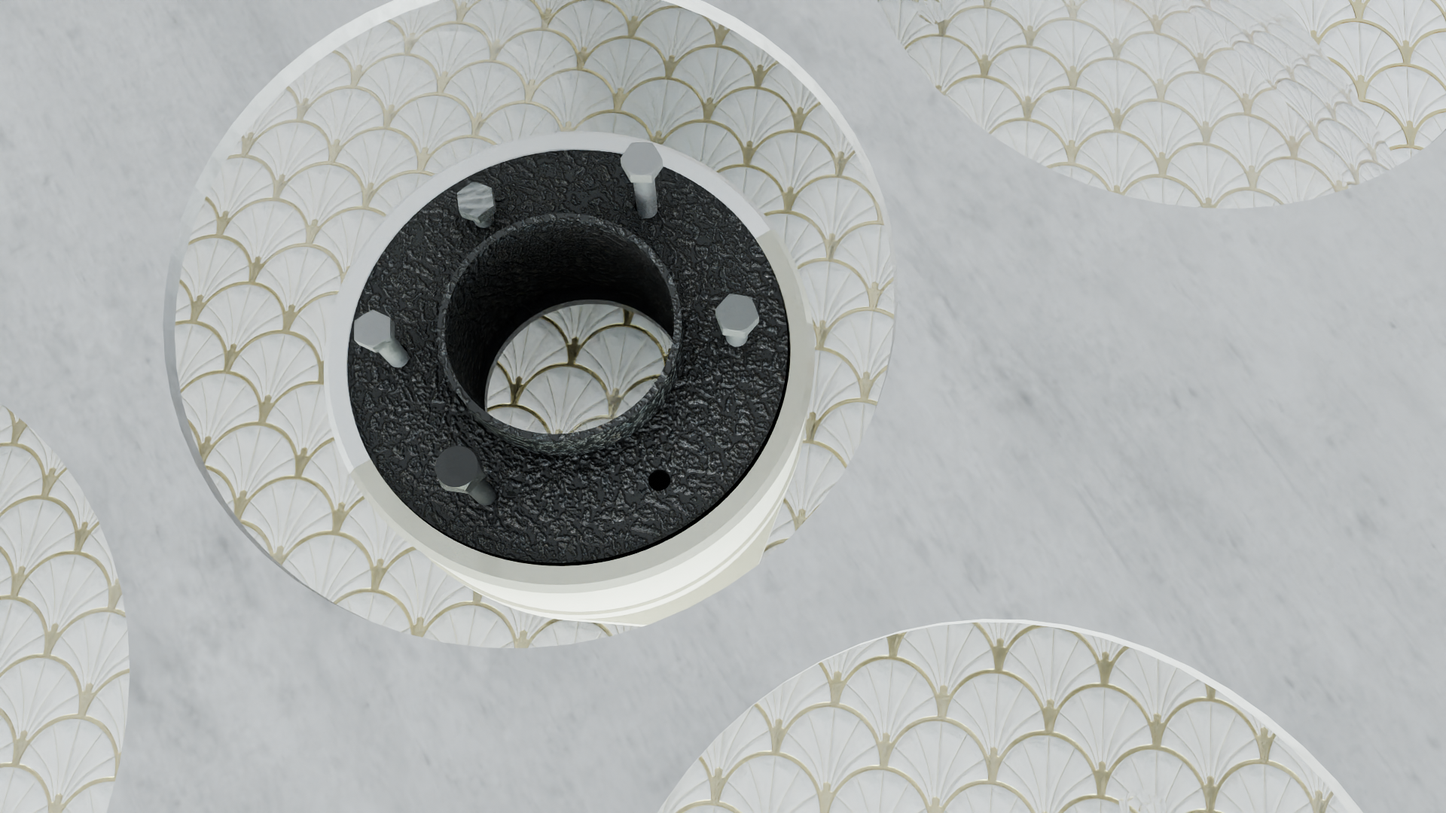bolt: (434, 446, 482, 490), (715, 294, 759, 333), (621, 142, 663, 176), (354, 309, 390, 348), (457, 181, 494, 217)
